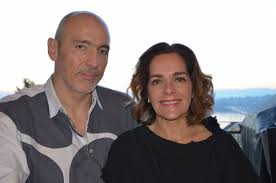middle_eastern_Female: (143, 51, 203, 125)
